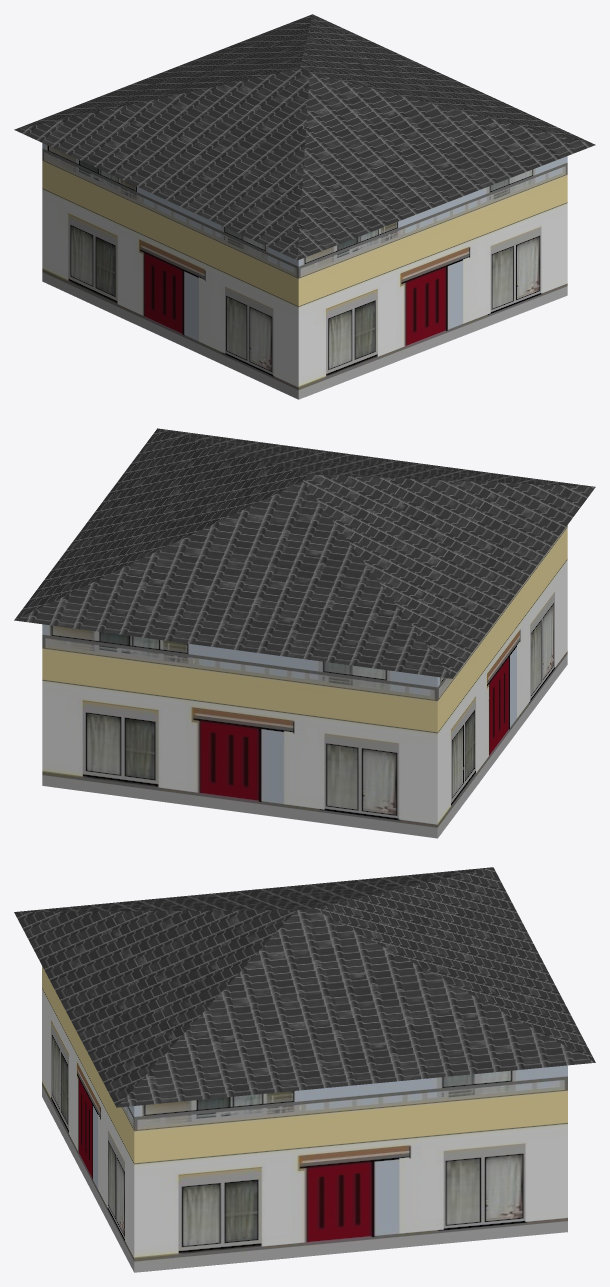
The picture shows the model from 3 angles, top to bottom: view 1: azimuth 30°, elevation 25°; view 2: azimuth 150°, elevation 25°; view 3: azimuth 270°, elevation 25°; orthographic projection. The views are drawn at different scales.
Visible parts, largest first — view 1: CityEngineMaterial_15_m, CityEngineMaterial_16_m; view 2: CityEngineMaterial_16_m, CityEngineMaterial_15_m; view 3: CityEngineMaterial_16_m, CityEngineMaterial_15_m.
Part boxes in pixels (x1,y1,x2,y2): CityEngineMaterial_15_m: (42, 143, 567, 399); CityEngineMaterial_16_m: (14, 14, 595, 260); CityEngineMaterial_16_m: (14, 428, 595, 678); CityEngineMaterial_15_m: (42, 525, 567, 838); CityEngineMaterial_16_m: (14, 867, 595, 1107); CityEngineMaterial_15_m: (42, 966, 567, 1272).
Bounding box in the file's own units: 22.88 × 11.31 × 23.4.
